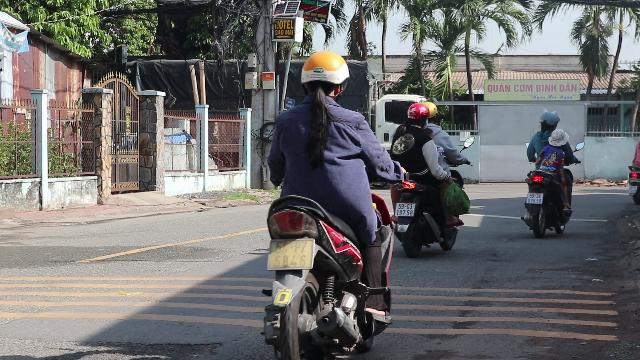helmet: (297, 51, 349, 101), (405, 102, 429, 126), (537, 109, 559, 130), (421, 100, 437, 124)
licenseplate: (268, 241, 312, 270), (394, 202, 414, 216), (526, 193, 542, 203)
motorcyclist: (248, 49, 408, 357), (388, 99, 470, 257), (520, 109, 576, 237)
nohelmet: (546, 128, 568, 148)
